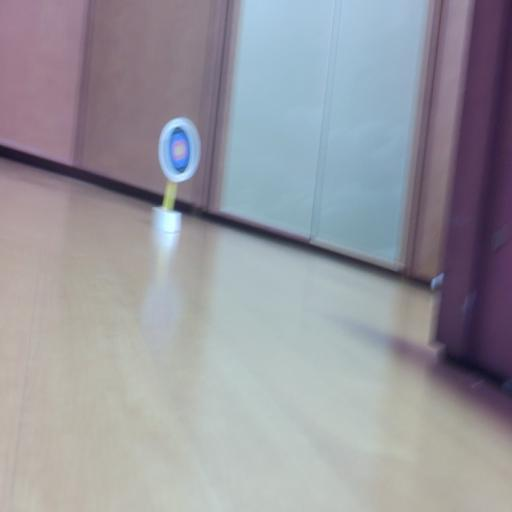target: (158, 117, 201, 183)
